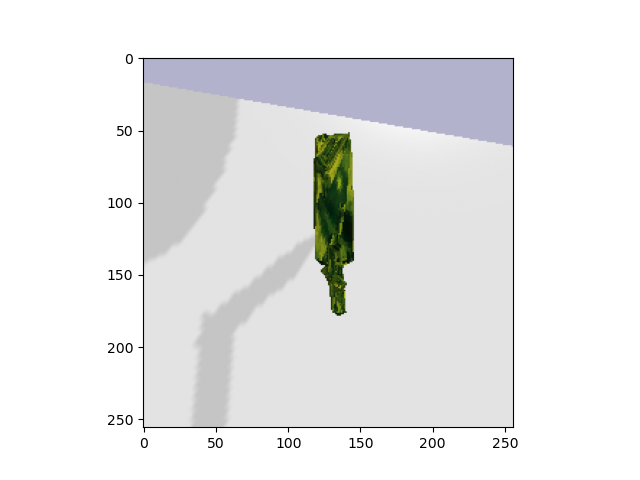v249b387_108: (301, 129, 373, 324)
